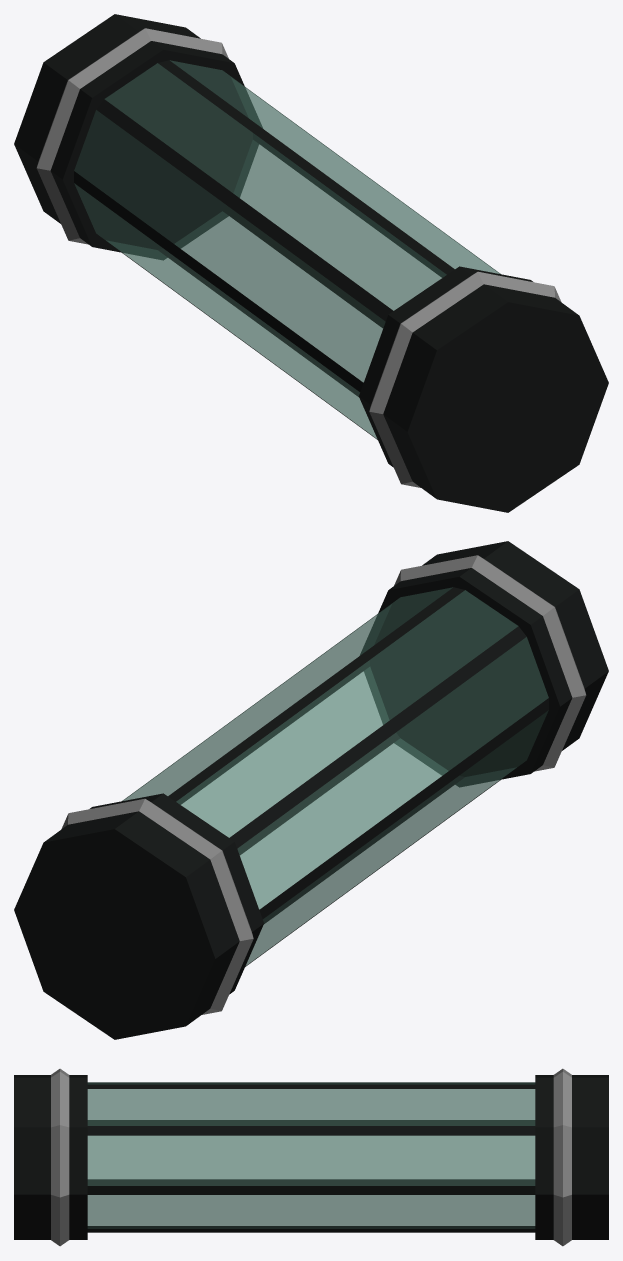
File: RG_BatteryHolder.obj
The picture shows the model from 3 angles, top to bottom: view 1: azimuth 30°, elevation 25°; view 2: azimuth 150°, elevation 25°; view 3: azimuth 270°, elevation 25°; orthographic projection. The views are drawn at different scales.
Parts seen in each view (by area): view 1: BatteryHolder; view 2: BatteryHolder; view 3: BatteryHolder.
Boxes of the visible parts, x1=… form: BatteryHolder: x1=14, y1=14, x2=608, y2=512; BatteryHolder: x1=14, y1=541, x2=608, y2=1039; BatteryHolder: x1=14, y1=1068, x2=608, y2=1246.
Size of the model in its own units: 0.0686 by 0.0686 by 0.2154.
